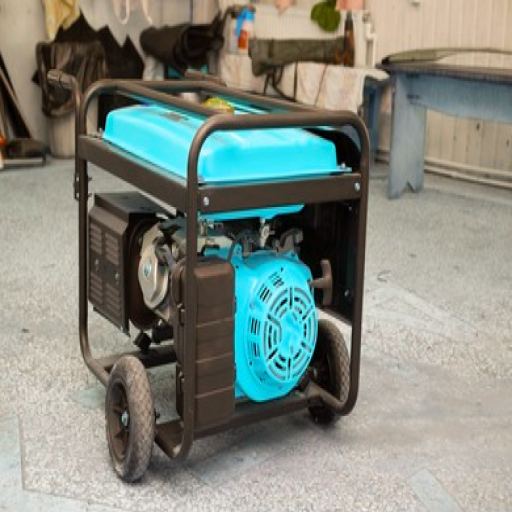portable_generator: (77, 79, 372, 464)
